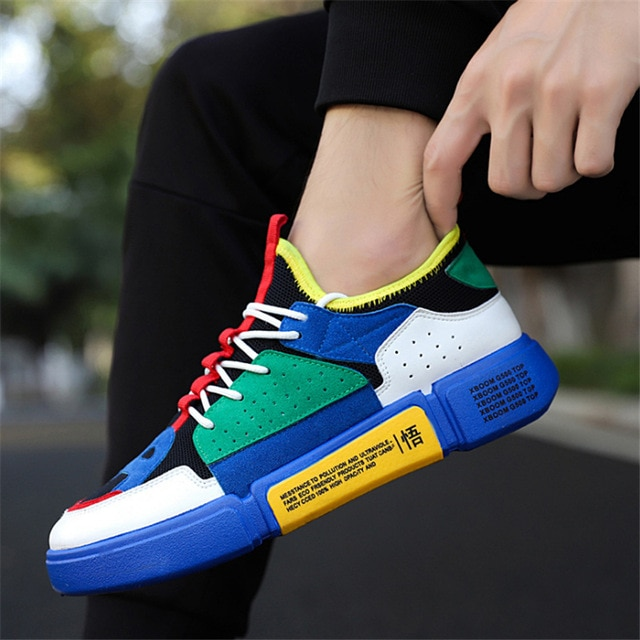shoe: (44, 209, 568, 619)
